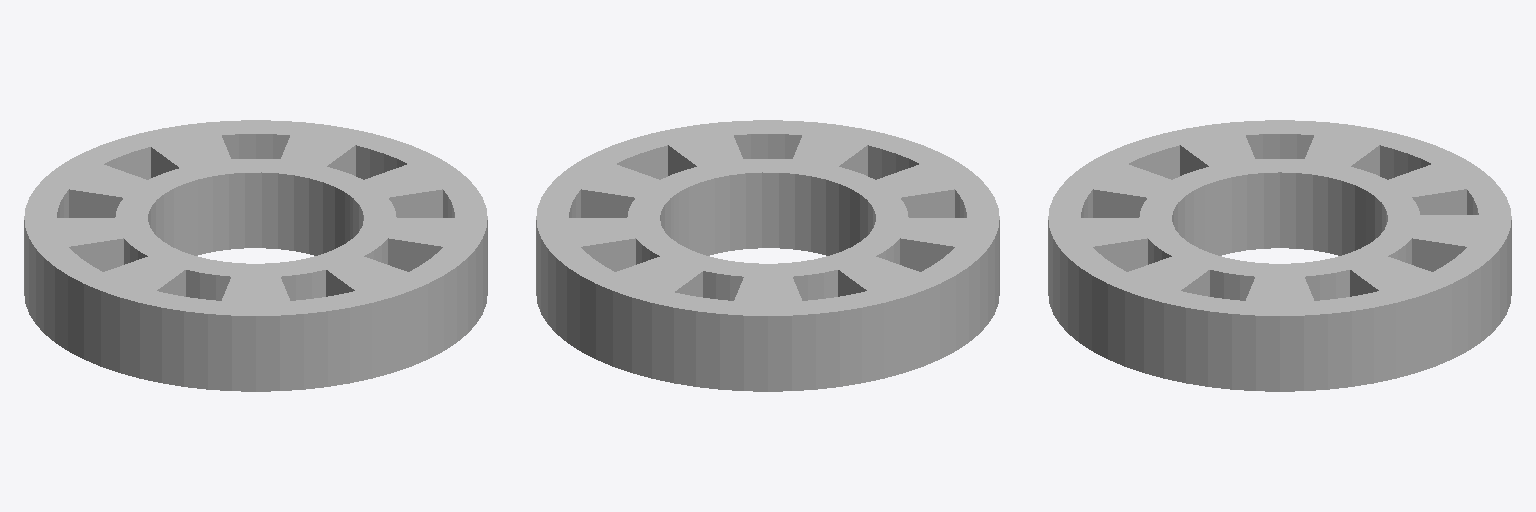
The model's file is N3-001_pc_gfx.obj.
3 renders of one model, left to right at view 1: azimuth 30°, elevation 25°; view 2: azimuth 150°, elevation 25°; view 3: azimuth 270°, elevation 25°, orthographic.
Visible parts, largest first — view 1: N3-001; view 2: N3-001; view 3: N3-001.
Part boxes in pixels (bbox=[...]): N3-001: bbox=[24, 120, 487, 391]; N3-001: bbox=[536, 120, 999, 391]; N3-001: bbox=[1048, 120, 1511, 391].
Bounding box in the file's own units: 0.4075 × 0.0735 × 0.4075.